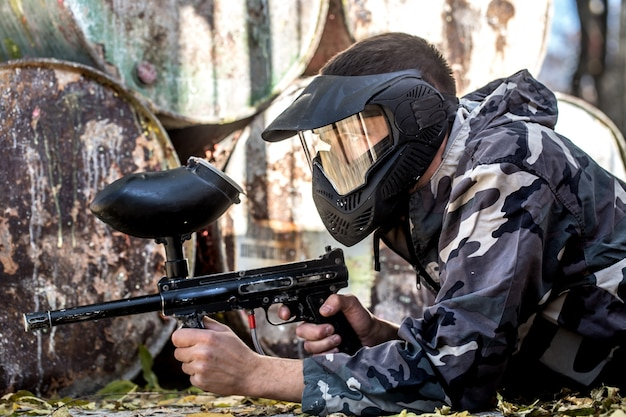gun: (21, 155, 357, 357)
